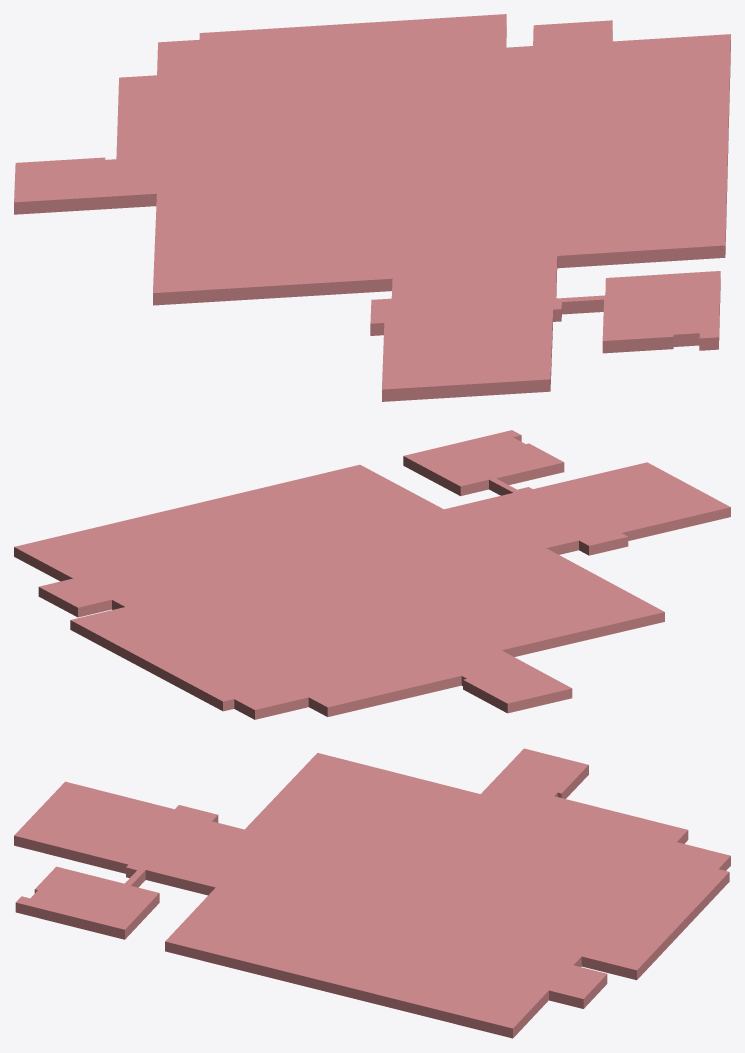
3 views of the same model, one above another, from view 1: azimuth 30°, elevation 25°; view 2: azimuth 150°, elevation 25°; view 3: azimuth 270°, elevation 25° (orthographic). The views are drawn at different scales.
Size of the model in its own units: 60.25 by 1 by 65.16.
